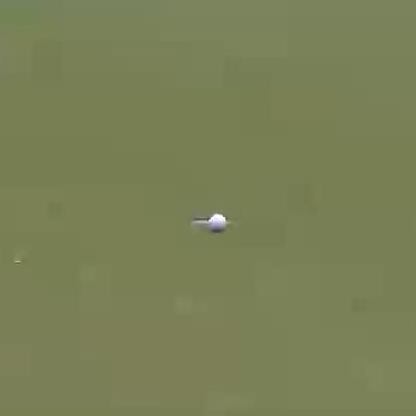golfball: (207, 211, 225, 231)
